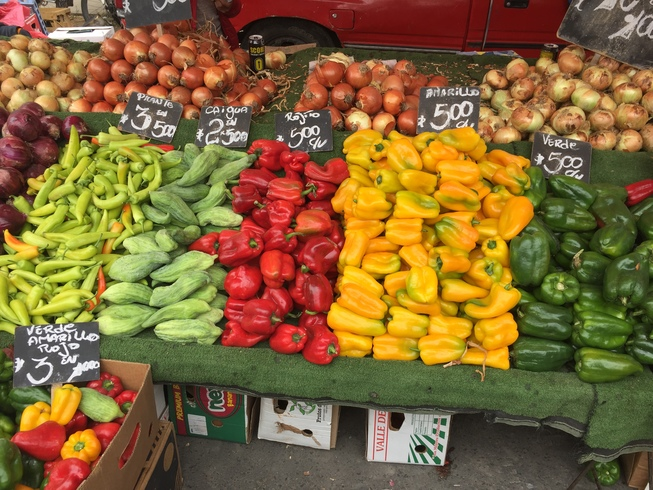precio: (9, 315, 113, 399), (413, 79, 495, 150), (115, 87, 189, 149), (526, 129, 598, 190), (275, 105, 341, 164), (197, 99, 253, 154)
